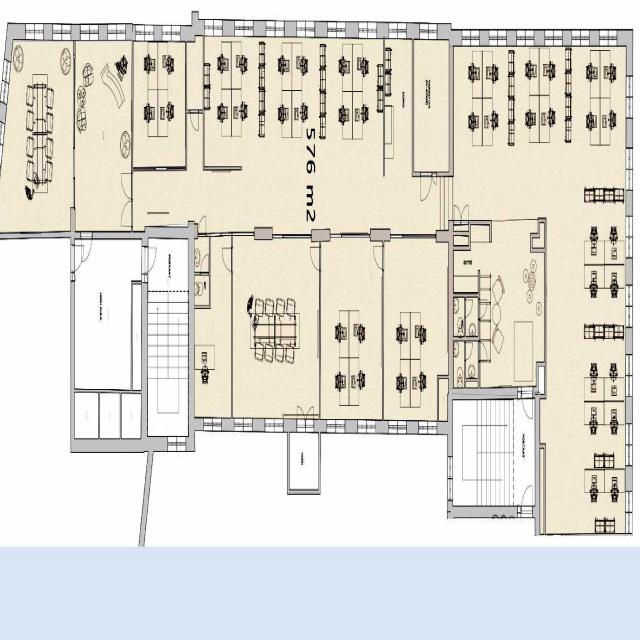door: (521, 477, 533, 518), (521, 388, 533, 428), (142, 246, 159, 274), (71, 245, 87, 272), (80, 232, 92, 268), (420, 172, 432, 205), (120, 172, 133, 200), (120, 199, 133, 226), (305, 398, 314, 432), (221, 248, 233, 272), (309, 246, 321, 270), (372, 246, 384, 270), (297, 398, 305, 432), (200, 252, 209, 275), (190, 110, 198, 132), (198, 214, 206, 236), (478, 300, 487, 318), (478, 342, 487, 360), (464, 342, 473, 360), (454, 202, 461, 224), (461, 202, 468, 224), (464, 300, 473, 316), (517, 388, 521, 411), (142, 273, 152, 282), (517, 496, 521, 518), (432, 172, 437, 188), (71, 272, 79, 280)
